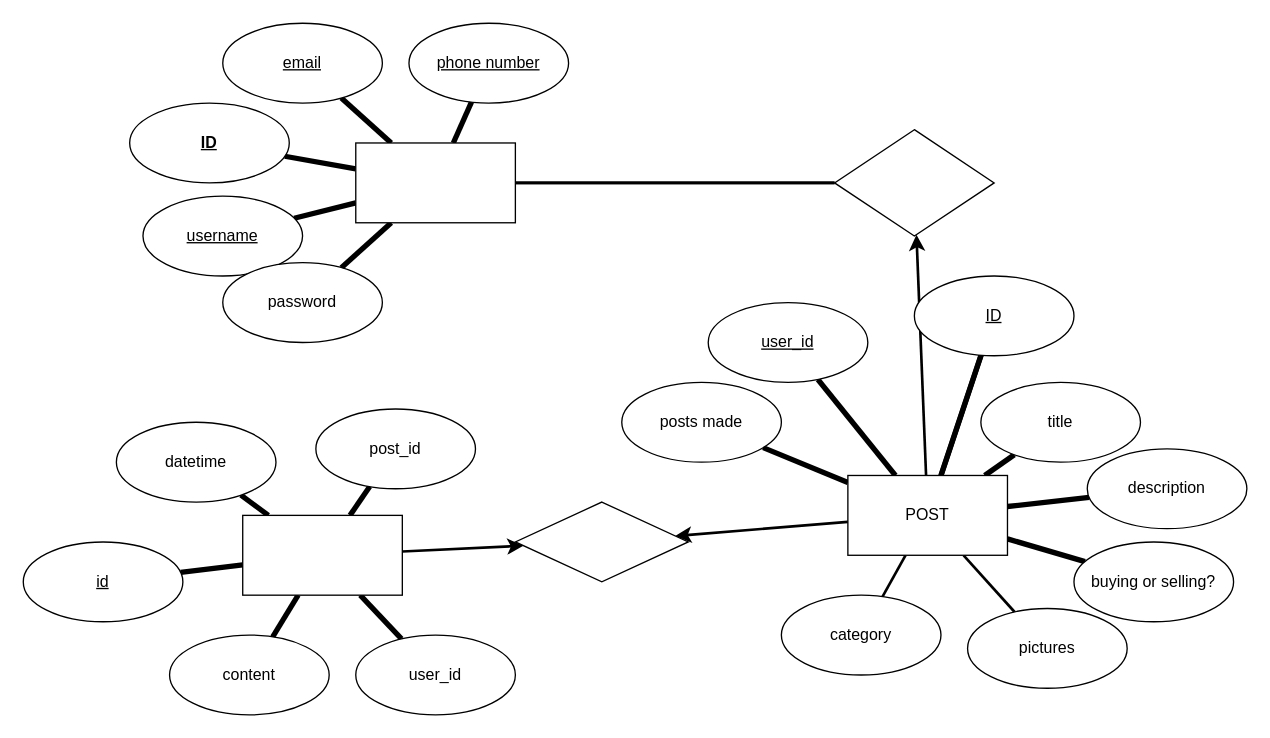
Some shapes in this 1270 by 738 pixel diagram are drawn without their labels. Each missing label, with the centre of its shape:
"CAN / SEES" belongs at [913,182].
"COMMENT" belongs at [321,554].
"HAS" belongs at [601,541].
"USER" belongs at [434,182].
